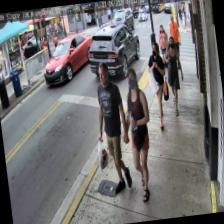person: (88, 58, 134, 194), (117, 65, 159, 202), (144, 41, 170, 129), (162, 34, 187, 114), (166, 13, 184, 68), (155, 23, 170, 68)
